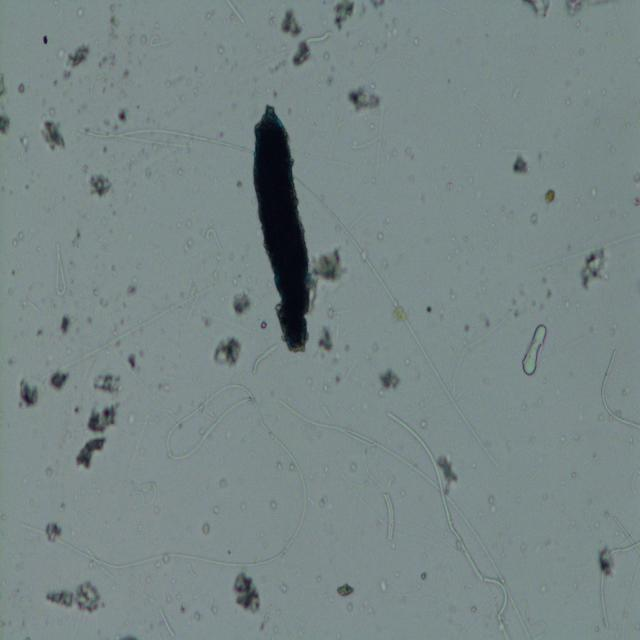Background material: (82, 268, 138, 345), (73, 398, 123, 470), (488, 271, 558, 322), (39, 580, 104, 615), (577, 242, 611, 297), (369, 1, 400, 56), (95, 18, 124, 75), (57, 40, 93, 84), (230, 570, 264, 614), (168, 589, 212, 621), (36, 107, 67, 152), (345, 83, 382, 119), (312, 248, 348, 284), (210, 334, 244, 369), (330, 0, 364, 35), (559, 0, 606, 23), (314, 322, 341, 359), (388, 147, 414, 184), (351, 129, 383, 159), (435, 458, 458, 496), (0, 70, 13, 135), (15, 376, 39, 411), (83, 171, 115, 197), (254, 53, 288, 77), (228, 286, 252, 318), (9, 217, 33, 249), (289, 38, 311, 70), (46, 366, 72, 393), (278, 10, 302, 38), (377, 366, 400, 393), (90, 372, 120, 392), (65, 218, 85, 248), (511, 150, 531, 179), (626, 169, 640, 208), (521, 0, 551, 18), (502, 81, 524, 101), (336, 579, 354, 602), (125, 352, 142, 374), (56, 310, 70, 336), (46, 524, 64, 542), (17, 130, 31, 153), (36, 27, 53, 44), (28, 323, 44, 341), (114, 105, 128, 124), (417, 301, 434, 315), (543, 190, 557, 206), (125, 281, 139, 297), (8, 272, 20, 290), (261, 499, 277, 510), (201, 519, 210, 538), (16, 83, 27, 95), (226, 482, 234, 495), (526, 218, 539, 226), (26, 186, 32, 196)
Fragment: (250, 104, 312, 356)
Glass filter fibre: (24, 377, 310, 572), (316, 194, 500, 467), (386, 411, 509, 638), (80, 123, 250, 155), (598, 534, 640, 627), (600, 348, 640, 431), (521, 324, 547, 375), (206, 224, 224, 286), (613, 516, 640, 555), (52, 240, 68, 296), (379, 490, 396, 541), (252, 344, 278, 375), (226, 1, 246, 25), (159, 608, 175, 638), (306, 30, 332, 47)
